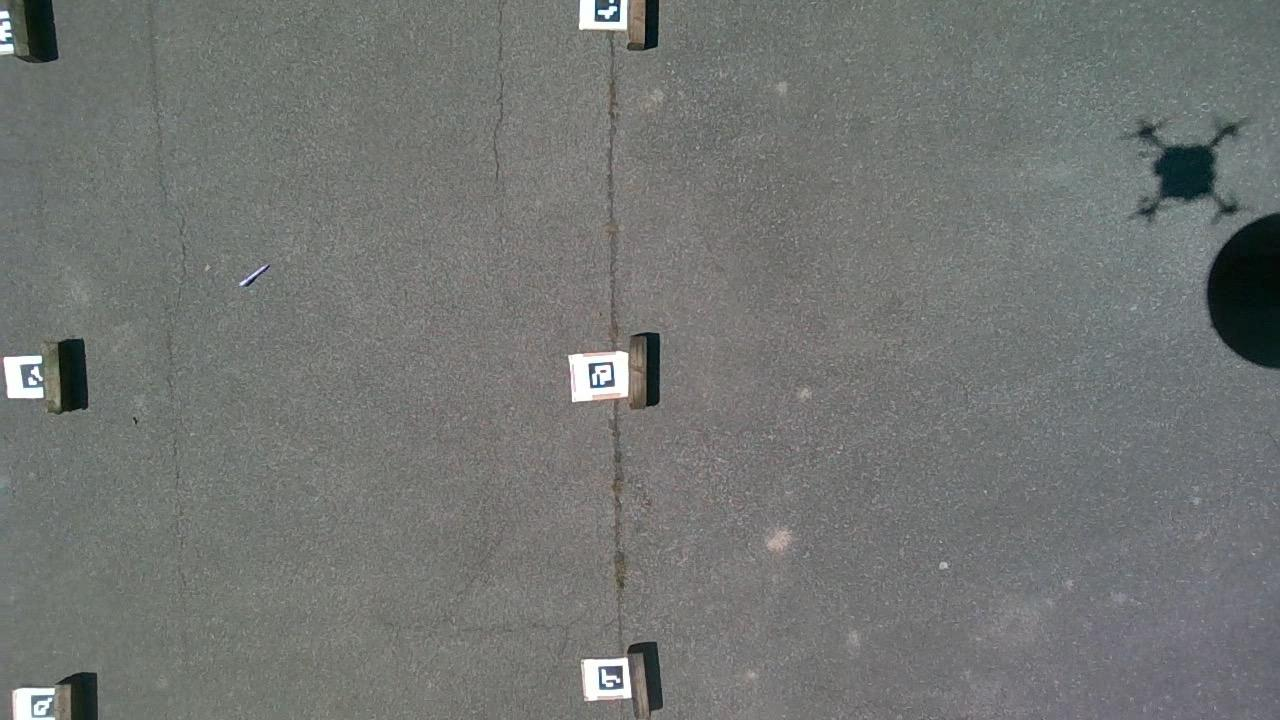probes: (238, 262, 270, 288)
